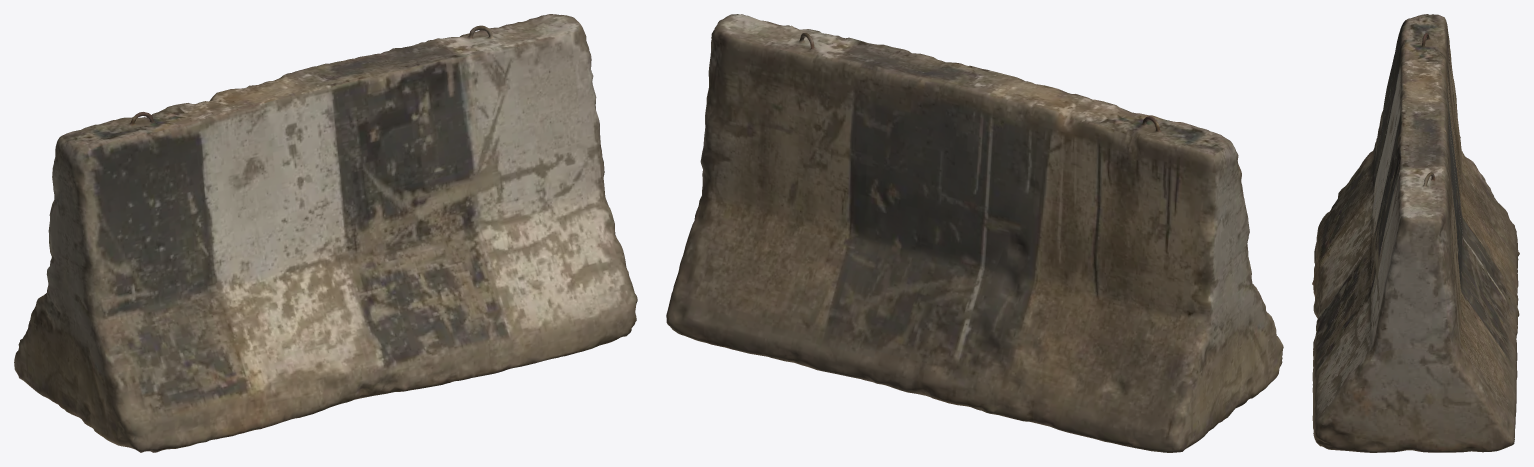
File: PH-concrete_road_barrier.glb
3 views of the same model, side by side, from view 1: azimuth 30°, elevation 25°; view 2: azimuth 150°, elevation 25°; view 3: azimuth 270°, elevation 25° (orthographic). The views are drawn at different scales.
Visible parts, largest first — view 1: concrete_road_barrier; view 2: concrete_road_barrier; view 3: concrete_road_barrier.
Part boxes in pixels (x1,y1,x2,y2): concrete_road_barrier: (14,14,637,452); concrete_road_barrier: (666,14,1283,452); concrete_road_barrier: (1312,14,1519,452).
Size of the model in its own units: 1.55 by 0.831 by 0.6388.
Materials: 1 (1 with a texture image).
